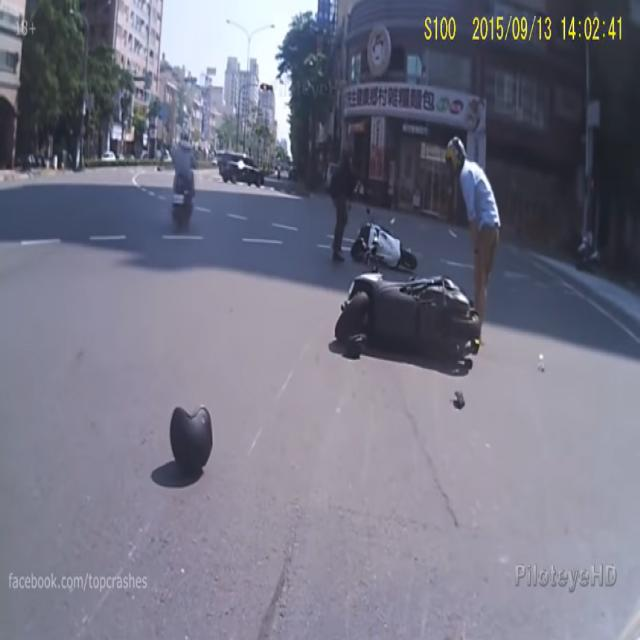accident: (319, 202, 488, 425), (327, 266, 495, 384), (351, 199, 419, 272)
